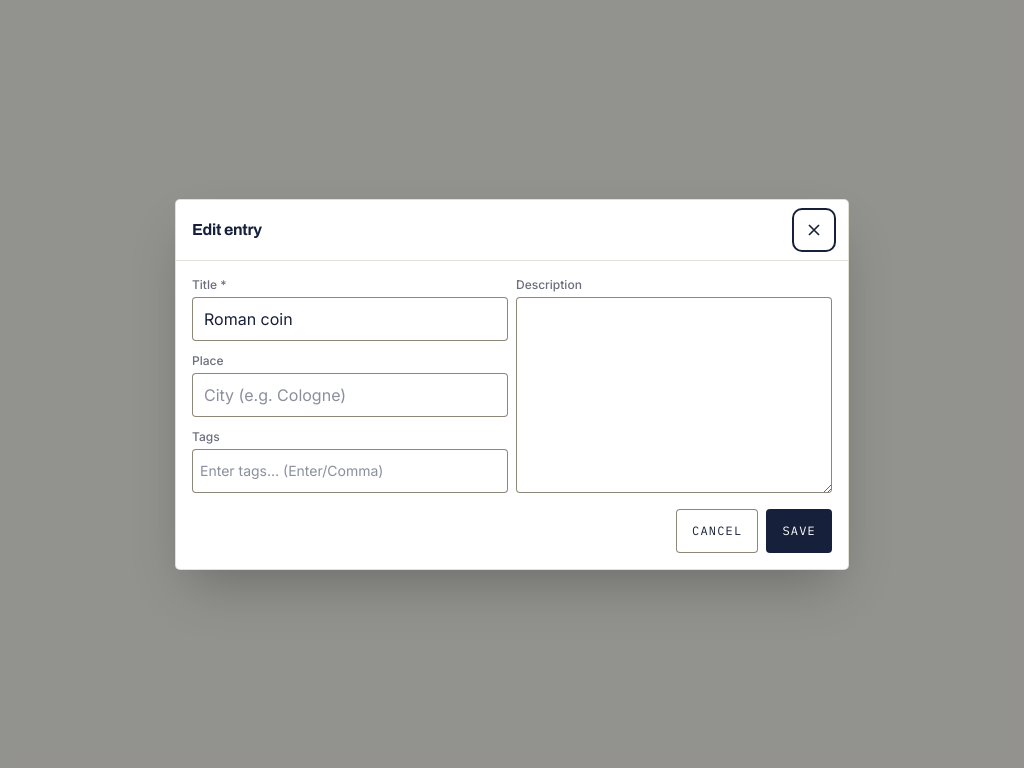
Test: EditItemModal — discarding unsaved changes › routes the explicit Cancel button through the same guard
Type "!" into the field with test id "item-title" at (350, 318), box [192,296,508,340]
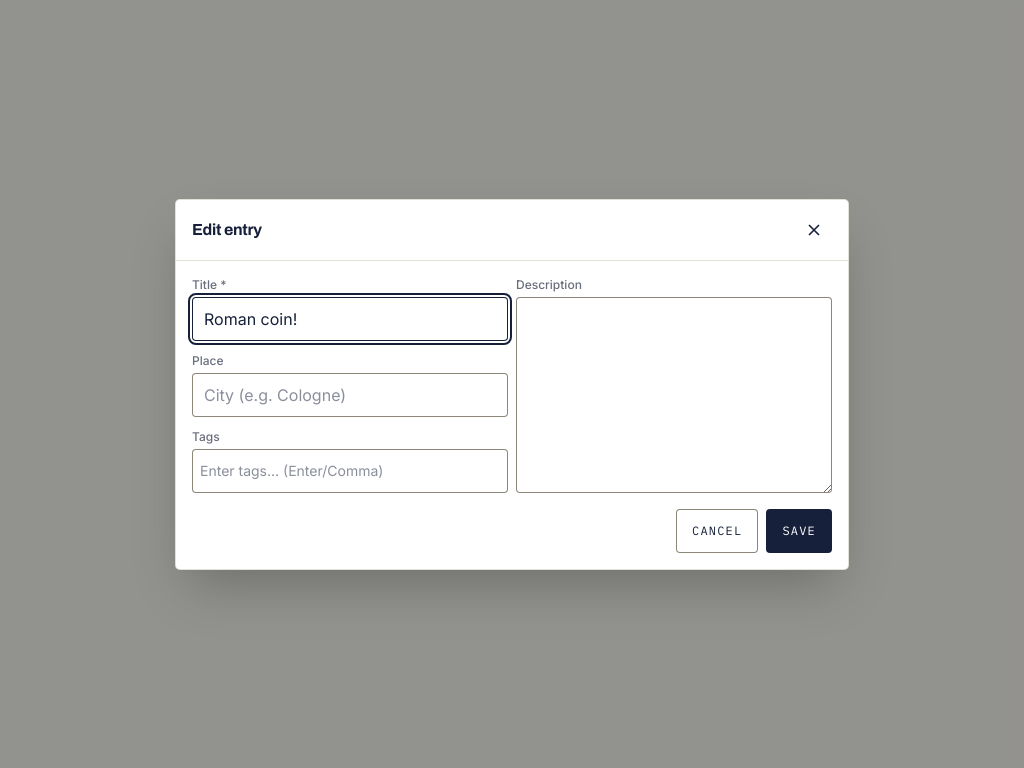
Click the button "Cancel" at (717, 530), box [676,508,758,552]
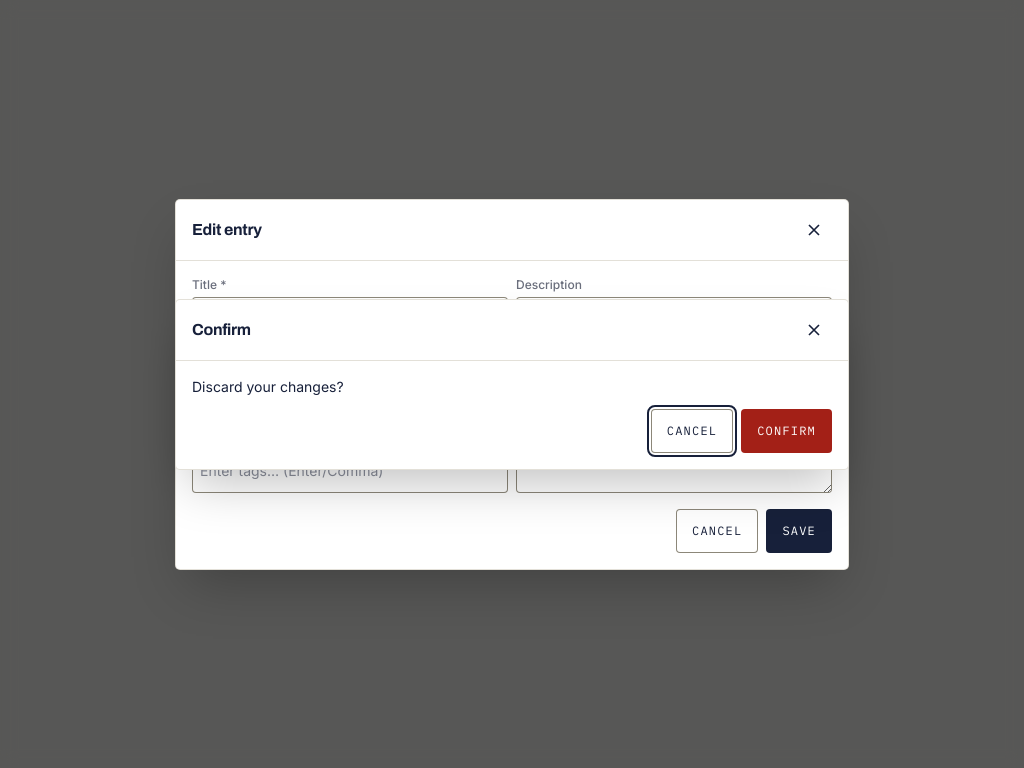
Now the text "Discard your changes?" is shown, box [192,378,344,394]
